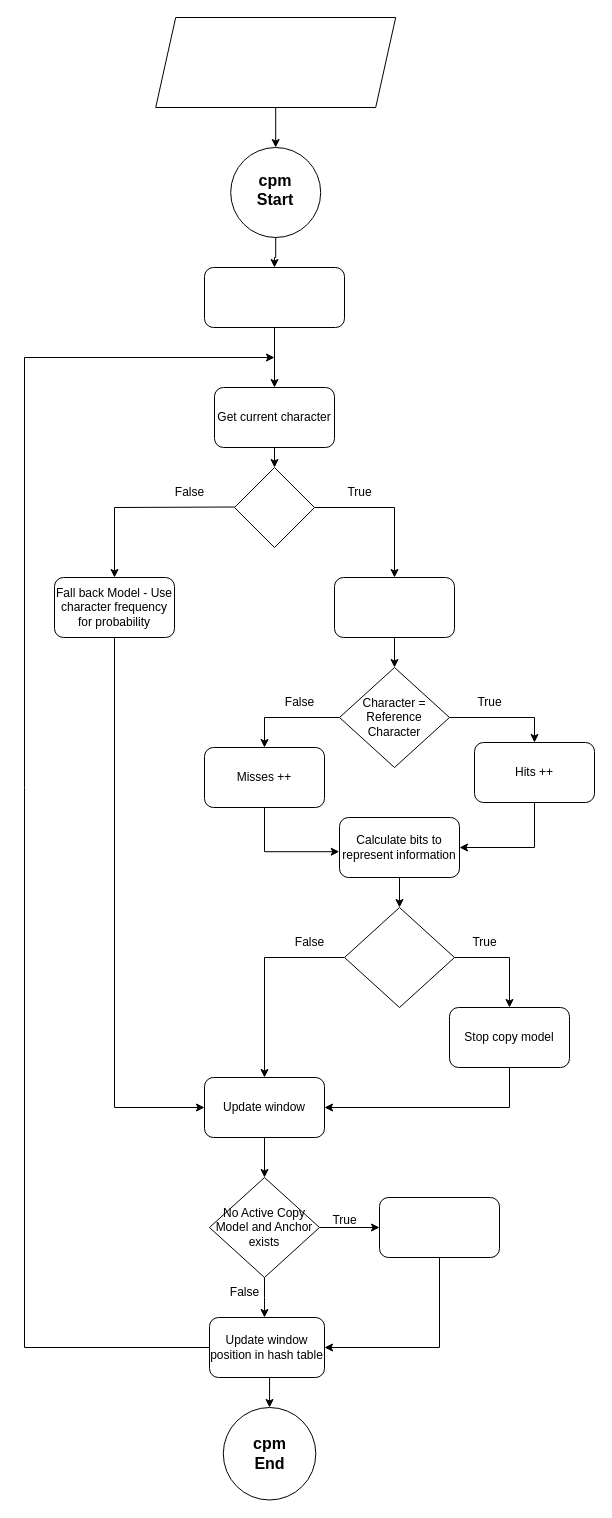
This 612x1518 diagram has some shape labels left out. The centre of each missing label's shape, as x and y in pixels:
Active copy model: point (274, 507)
Enter Input Parameters (k, alpha, threshold, file name): point (275, 62)
Get probability for reference character using Hits, Misses and Alpha: point (394, 607)
If performance < threshold: point (399, 957)
Read file to memory and Extract alphabet and frequency: point (274, 297)
Start copy model: point (439, 1227)
